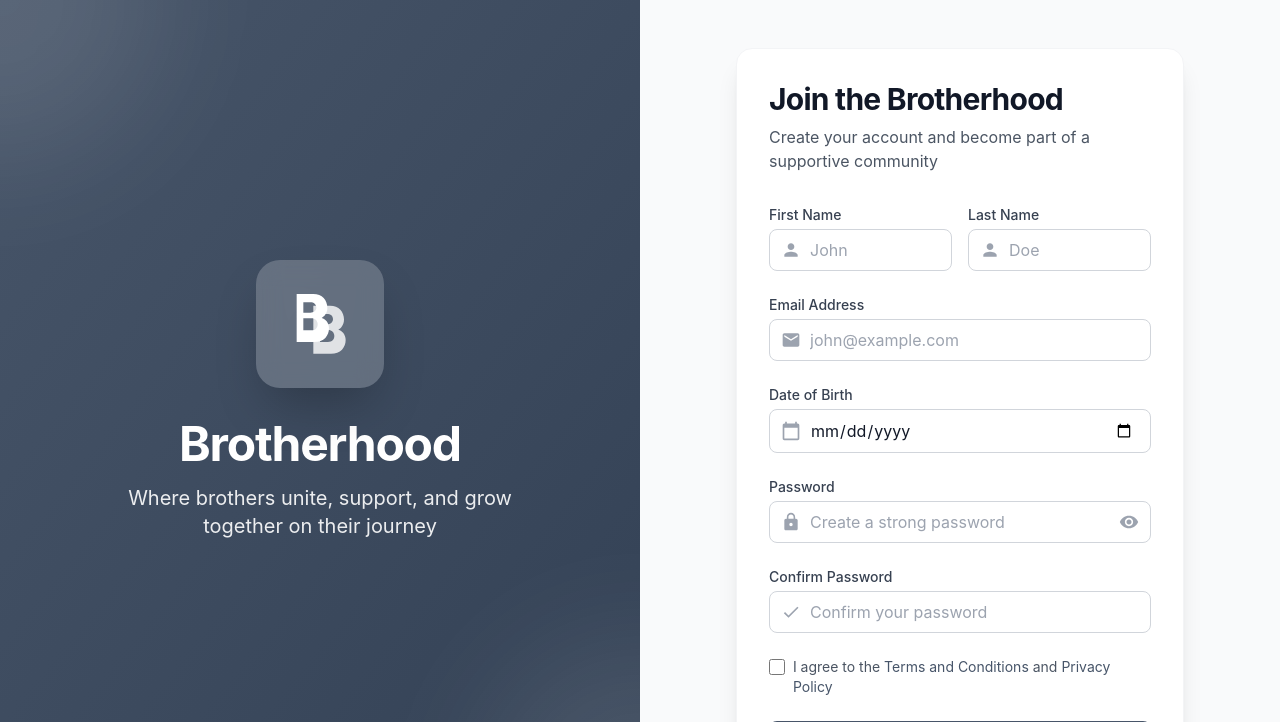
Scenario: Register Page › Form Validation › should validate name format
Step 1. Type "Test123" into the field labelled "First Name" → (860, 250), box [769, 229, 952, 271]
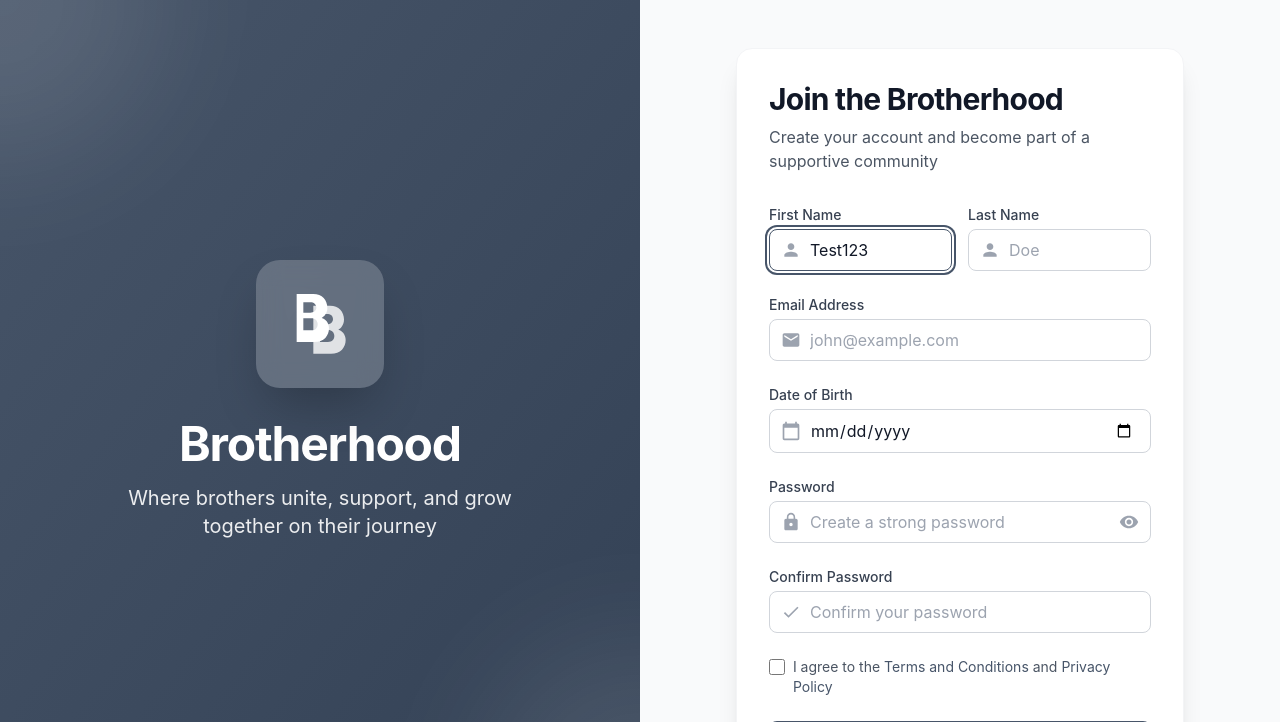
Step 2. Press Tab
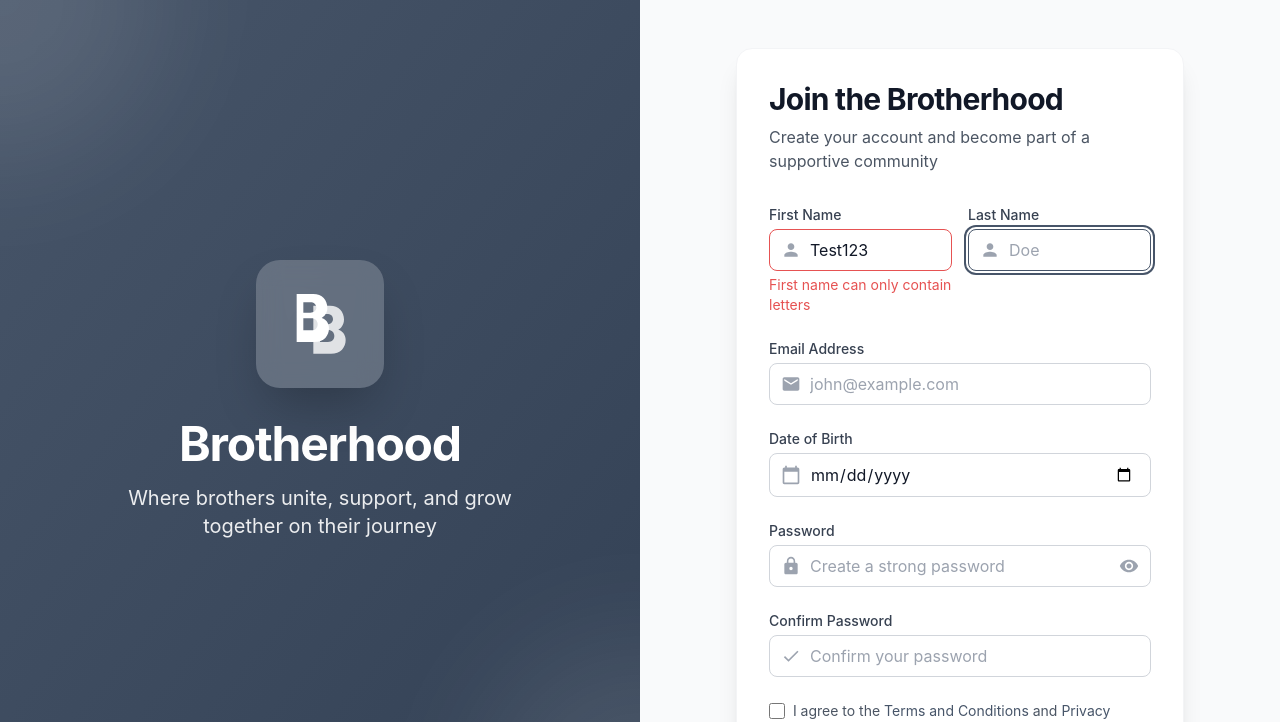
Expected: the text "First name can only contain letters" is shown, [769, 275, 952, 315]
